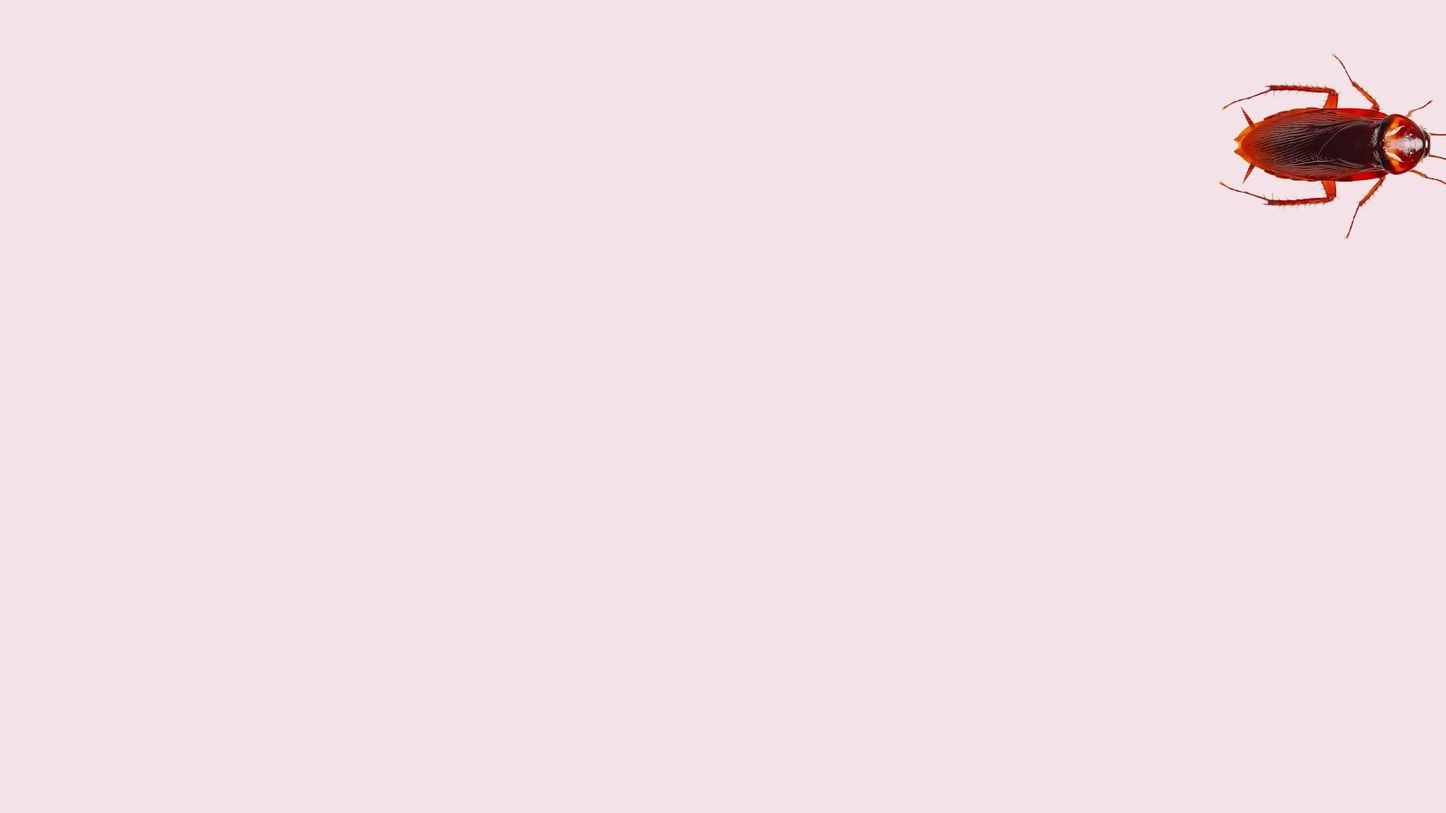cockroach: (1213, 79, 1446, 226)
